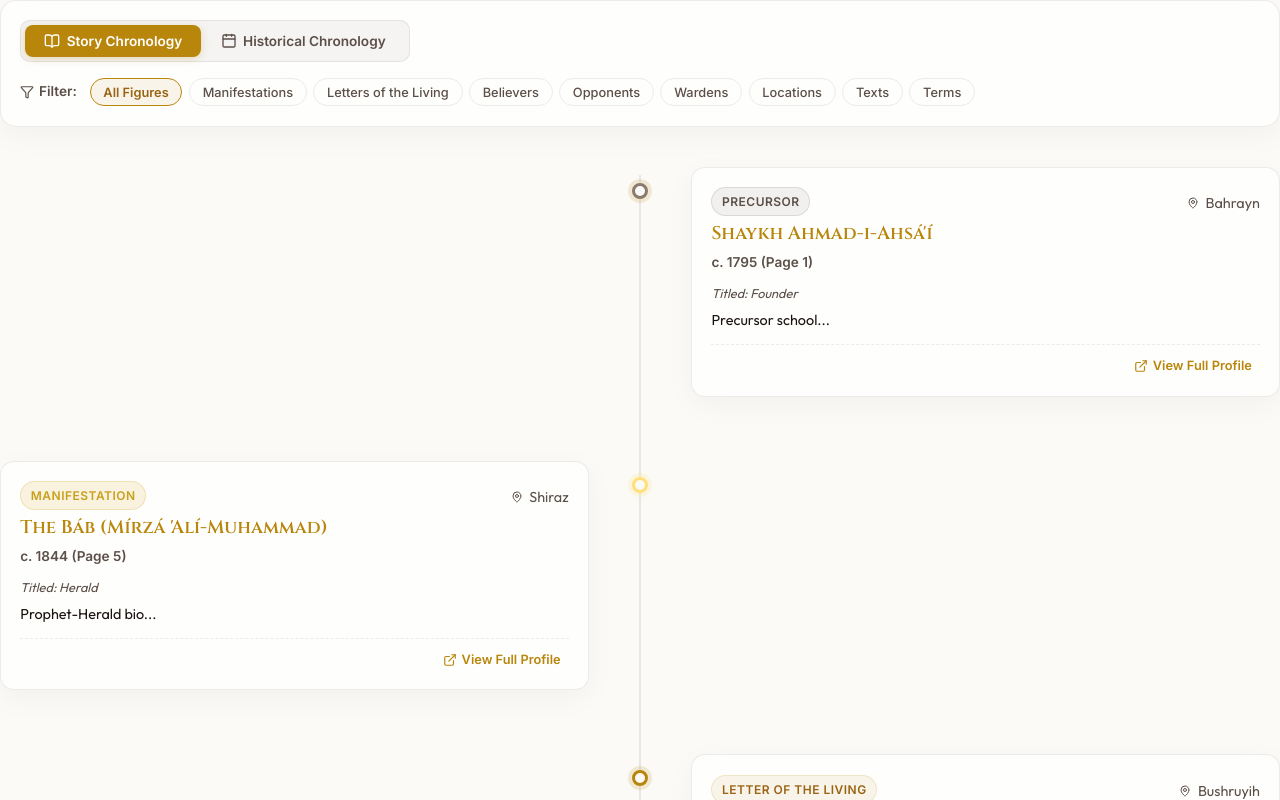
it: TimelineView Component › filters by category correctly
The image size is (1280, 800).
# Click 'Letters of the Living' filter
Click the button "Letters of the Living".
click(388, 92)  # box x1=313 y1=78 x2=462 y2=106
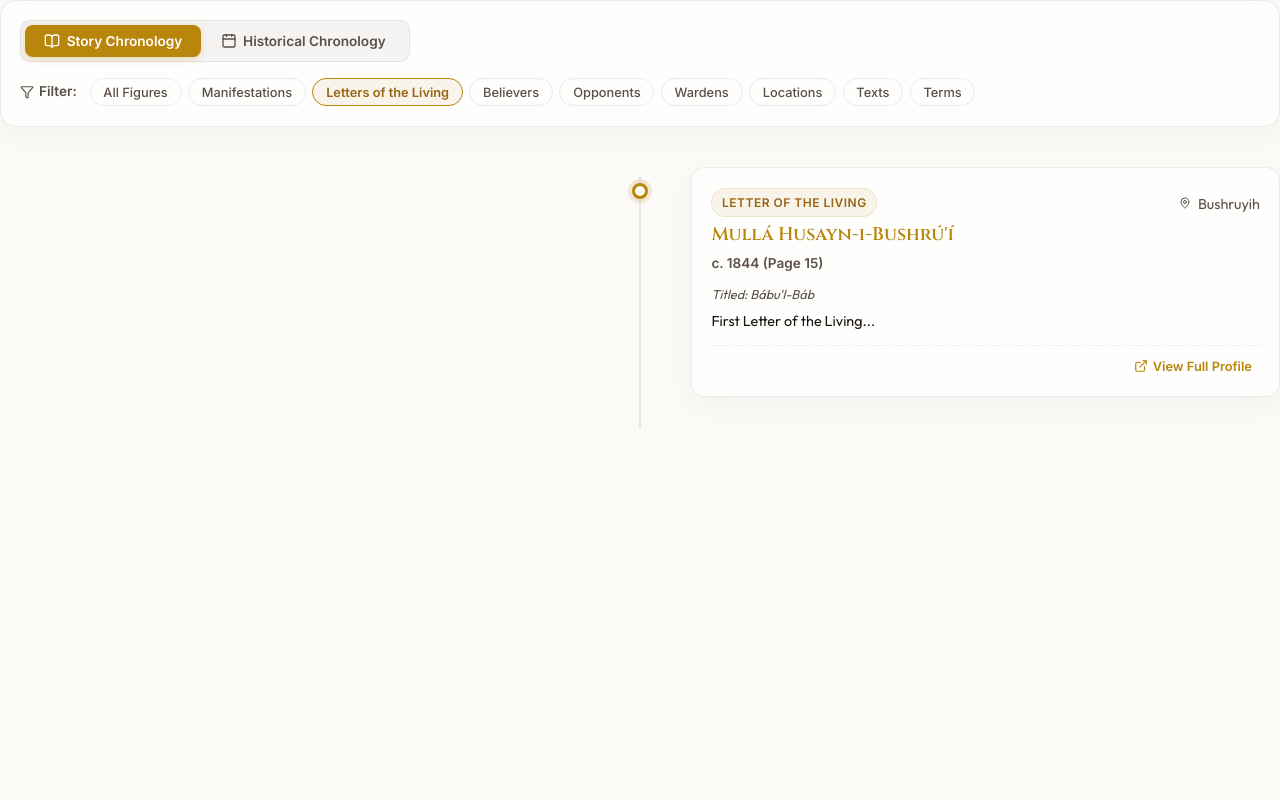
Expected: the heading reads "Mullá Husayn-i-Bushrú'í", x1=711 y1=221 x2=954 y2=246
Expected: the number of headings is 1, x1=711 y1=221 x2=954 y2=246
